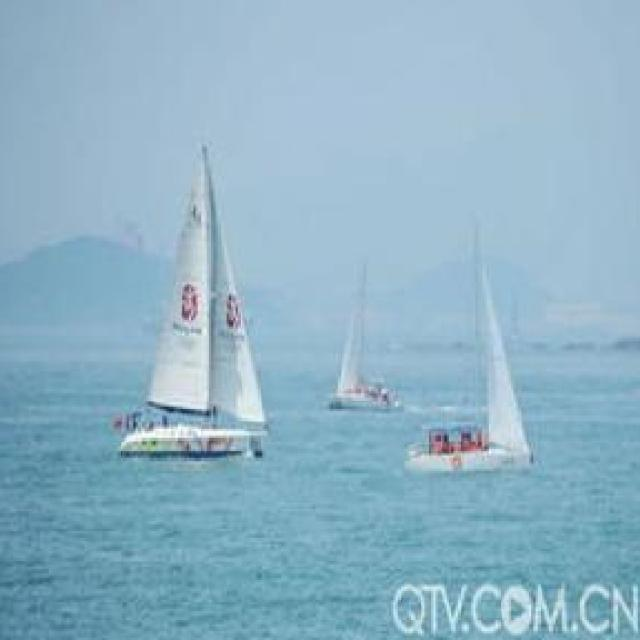sailboat: (110, 141, 265, 461), (406, 208, 532, 477), (323, 256, 407, 408)
